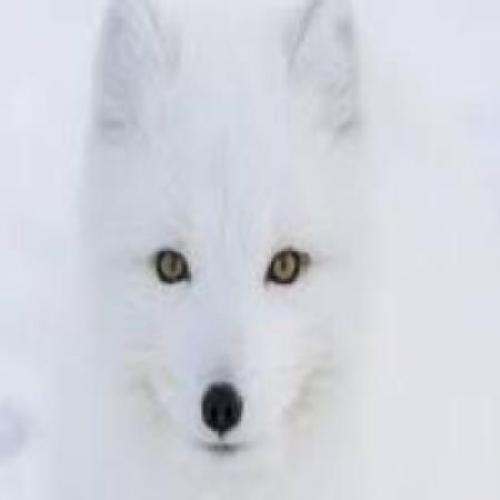arctic_fox-endangered: (71, 0, 381, 500)
